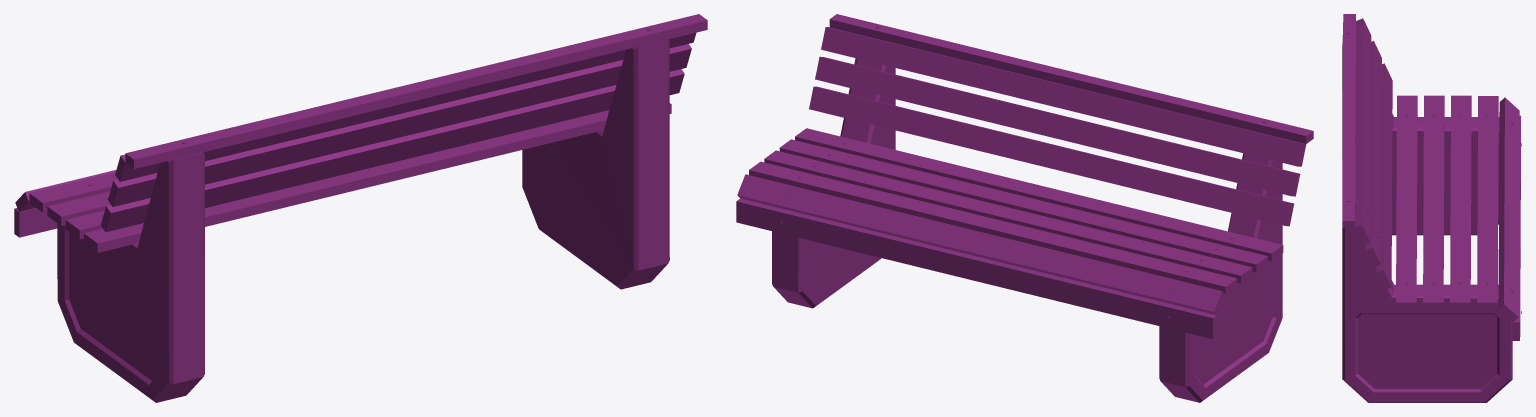
Rendered from mcp_street_bench_01_LOD_0.FBX.
3 renders of one model, left to right at view 1: azimuth 30°, elevation 25°; view 2: azimuth 150°, elevation 25°; view 3: azimuth 270°, elevation 25°, orthographic. The views are drawn at different scales.
Parts seen in each view (by area): view 1: mcp_street_bench_01; view 2: mcp_street_bench_01; view 3: mcp_street_bench_01.
Part boxes in pixels (x1=…): mcp_street_bench_01: x1=14, y1=14, x2=707, y2=402; mcp_street_bench_01: x1=736, y1=14, x2=1313, y2=402; mcp_street_bench_01: x1=1342, y1=14, x2=1521, y2=402.
Size of the model in its own units: 282 by 125 by 103.
